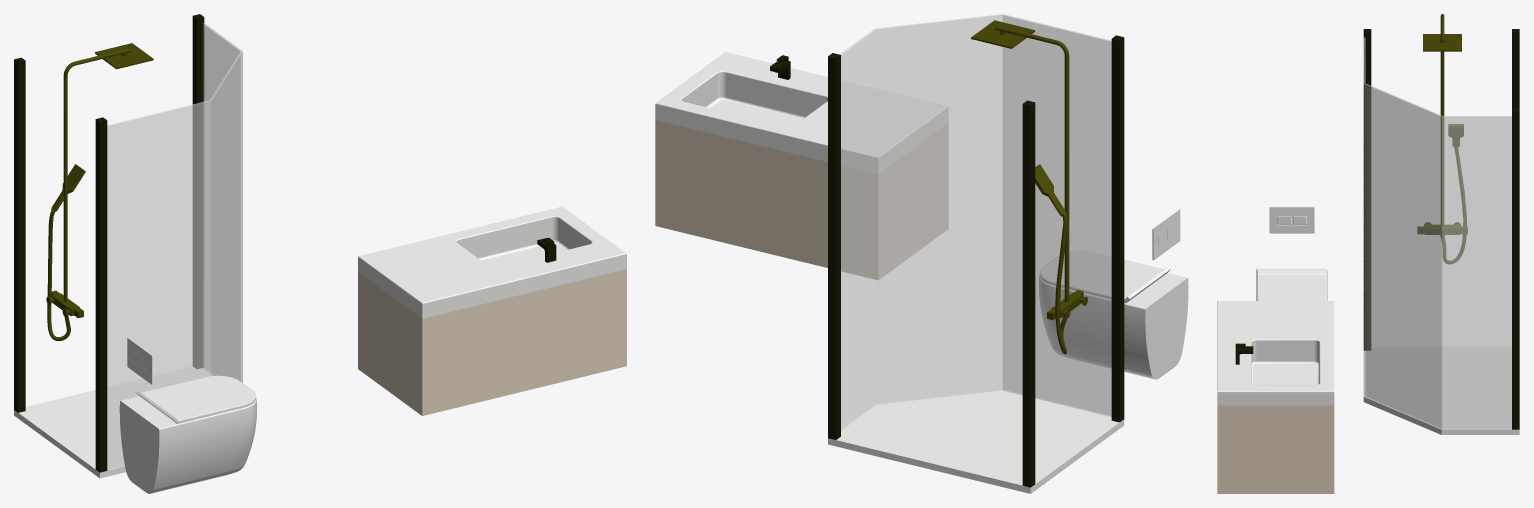
The model's file is bathroom-f2.glb.
3 renders of one model, left to right at view 1: azimuth 30°, elevation 25°; view 2: azimuth 150°, elevation 25°; view 3: azimuth 270°, elevation 25°, orthographic. The views are drawn at different scales.
Visible parts, largest first — view 1: douche-glass, sink-box, sink, Body1, douche-ground, douche-bar-3, douche-bar-2, douche-bar-1, Body2, Body1.001, Body5.001, Body7 (+1 smaller); view 2: douche-glass, sink-box, sink, douche-ground, Body1, douche-bar-2, douche-bar-3, douche-bar-1, Body2, Body1.001, Body5.001, Body3 (+2 smaller); view 3: douche-glass, sink, douche-ground, sink-box, douche-bar-3, douche-bar-1, Body2, Body1.001, Body3, Body5.001, douche-bar-2, Body7.
Part boxes in pixels (x1,y1,x2,y2): douche-glass: (107,23,242,470); sink-box: (358,269,626,415); sink: (358,206,626,318); Body1: (119,396,256,493); douche-ground: (14,366,213,478); douche-bar-3: (95,117,107,472); douche-bar-2: (14,57,25,412); douche-bar-1: (192,14,204,368); Body2: (135,375,255,423); Body1.001: (46,48,131,316); Body5.001: (95,43,153,69); Body7: (47,210,70,341); douche-glass: (839,14,1111,429); sink-box: (655,120,948,279); sink: (655,52,948,173); douche-ground: (828,389,1124,493); Body1: (1039,273,1188,379); douche-bar-2: (1022,100,1035,487); douche-bar-3: (1111,35,1124,422); douche-bar-1: (828,53,840,439); Body2: (1040,251,1170,303); Body1.001: (995,25,1087,318); Body5.001: (971,20,1034,48); Body3: (1152,209,1180,260); douche-glass: (1363,37,1511,429); sink: (1217,301,1334,405); douche-ground: (1363,347,1519,434); sink-box: (1217,405,1334,493); douche-bar-3: (1363,29,1371,350); douche-bar-1: (1512,108,1519,429); Body2: (1257,270,1326,300); Body1.001: (1424,14,1460,236); Body3: (1269,206,1314,233); Body5.001: (1423,34,1461,51); douche-bar-2: (1512,29,1519,107); Body7: (1441,148,1466,263).
Size of the model in its own units: 2.4 by 1.95 by 1.55.
